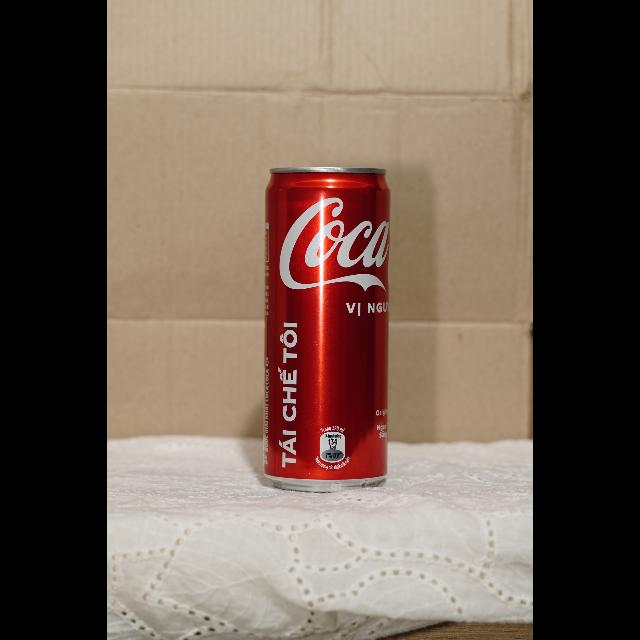coca_cola: (263, 165, 392, 492)
